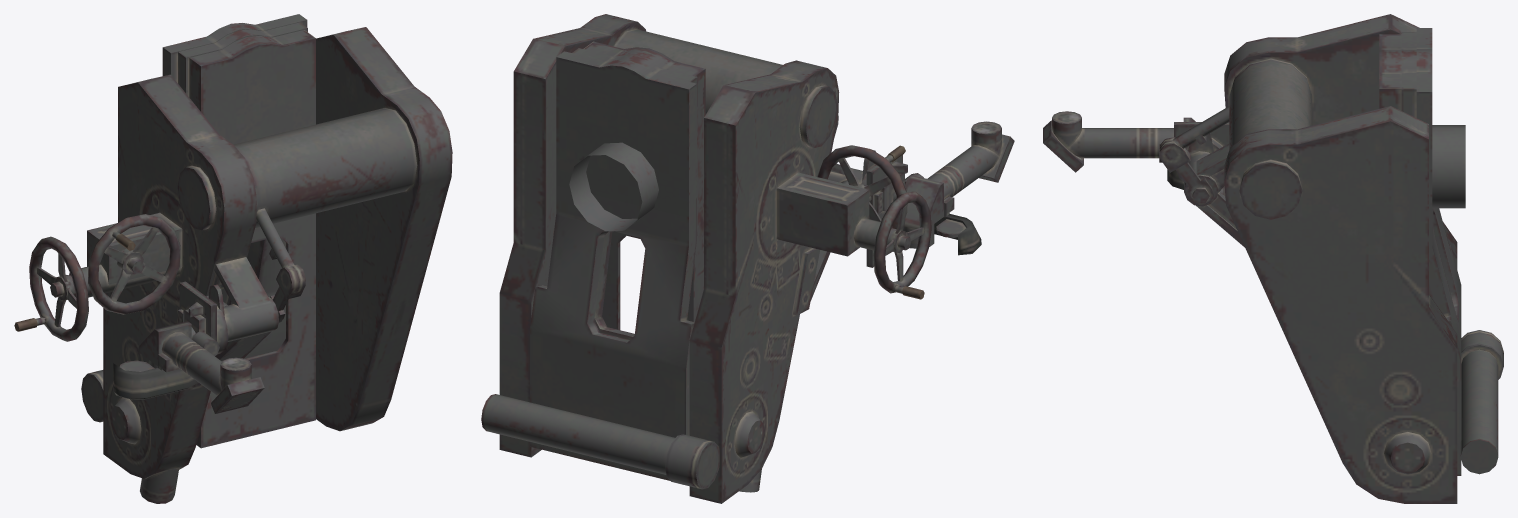
Rendered from Turret_01.glb.
3 renders of one model, left to right at view 1: azimuth 30°, elevation 25°; view 2: azimuth 150°, elevation 25°; view 3: azimuth 270°, elevation 25°, orthographic. The views are drawn at different scales.
Visible parts, largest first — view 1: set_0_group_0; view 2: set_0_group_0; view 3: set_0_group_0.
Boxes of the visible parts, x1=… form: set_0_group_0: x1=14, y1=14, x2=452, y2=503; set_0_group_0: x1=481, y1=14, x2=1014, y2=503; set_0_group_0: x1=1043, y1=14, x2=1503, y2=503.
Size of the model in its own units: 1.18 by 1.27 by 1.27.
Materials: 1 (1 with a texture image).
